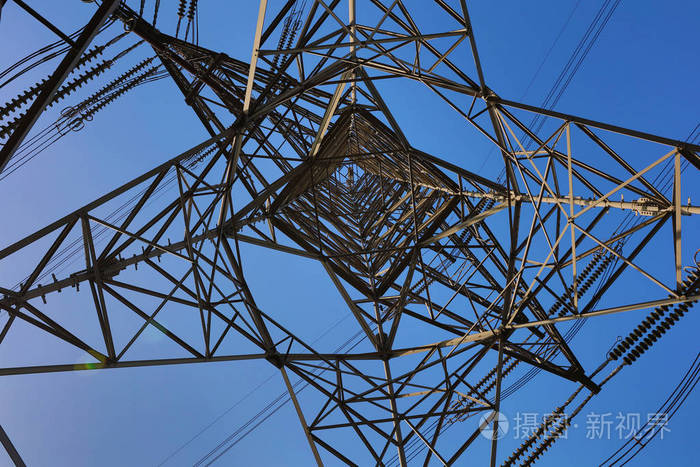insulator: (610, 268, 700, 368), (1, 46, 108, 129), (77, 58, 157, 117), (549, 253, 608, 318), (510, 406, 567, 467), (464, 356, 515, 405), (275, 28, 296, 63), (175, 1, 198, 22)
